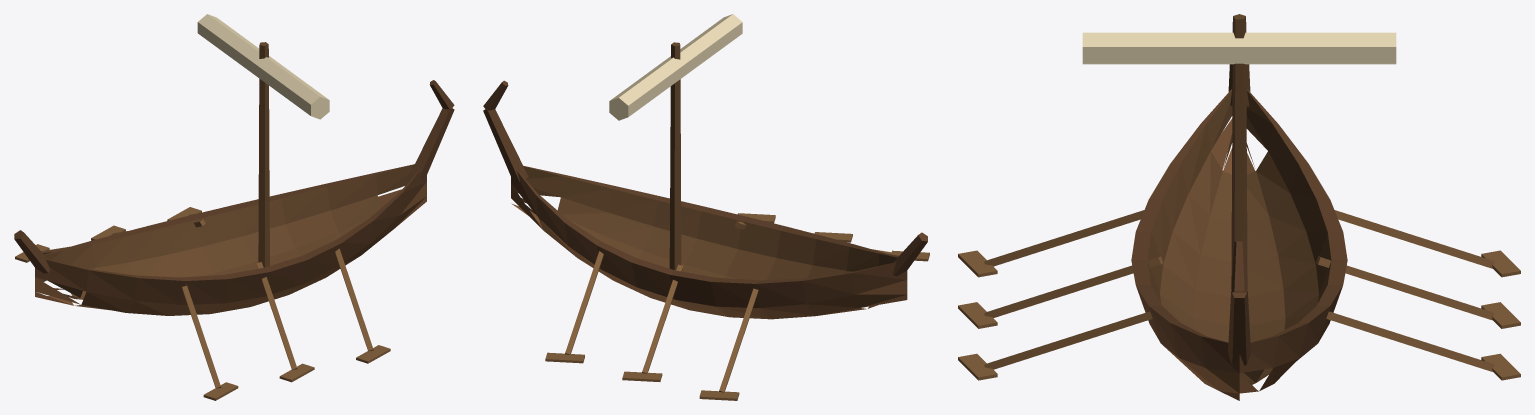
File: roman_boat.glb
3 renders of one model, left to right at view 1: azimuth 30°, elevation 25°; view 2: azimuth 150°, elevation 25°; view 3: azimuth 270°, elevation 25°, orthographic. The views are drawn at different scales.
Parts seen in each view (by area): view 1: roman_boat2; view 2: roman_boat2; view 3: roman_boat2.
Part boxes in pixels (x1,y1,x2,y2): roman_boat2: [14, 14, 454, 400]; roman_boat2: [483, 14, 929, 400]; roman_boat2: [958, 14, 1520, 400].
Size of the model in its own units: 4.03 by 2.18 by 3.23.
